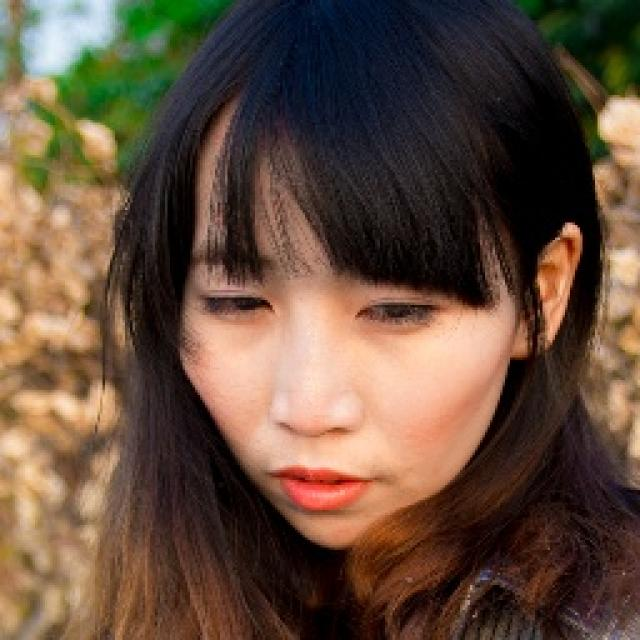earlobe: (509, 310, 551, 360)
eye: (357, 295, 438, 324), (202, 290, 274, 318)
nose: (272, 418, 362, 462)
wholeear: (508, 223, 582, 359)
